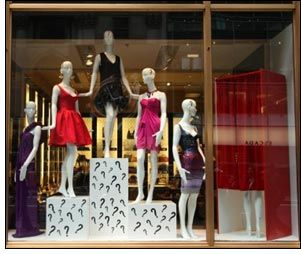person-like: (77, 27, 142, 161), (40, 58, 94, 198), (170, 96, 207, 241), (132, 65, 168, 204), (12, 99, 44, 238)
